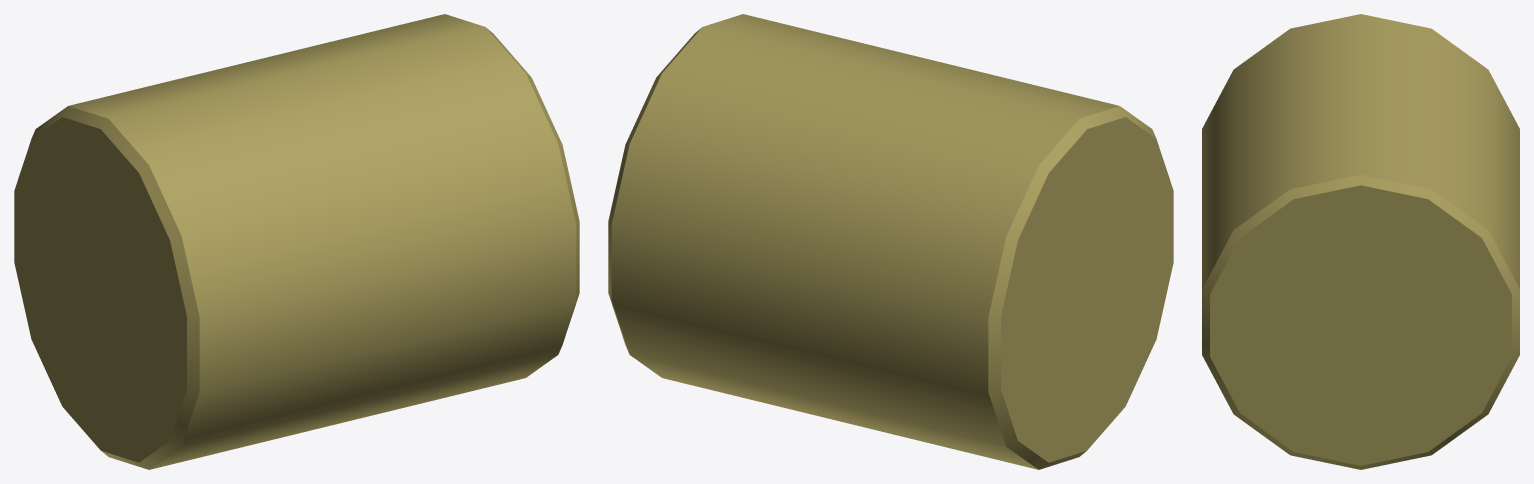
Rendered from Haybale_01.fbx.
The picture shows the model from 3 angles, left to right: view 1: azimuth 30°, elevation 25°; view 2: azimuth 150°, elevation 25°; view 3: azimuth 270°, elevation 25°; orthographic projection. The views are drawn at different scales.
Visible parts, largest first — view 1: pCylinder1; view 2: pCylinder1; view 3: pCylinder1.
Part boxes in pixels (x1=…): pCylinder1: x1=14, y1=14, x2=579, y2=469; pCylinder1: x1=608, y1=14, x2=1173, y2=469; pCylinder1: x1=1202, y1=14, x2=1519, y2=469.
Bounding box in the file's own units: 340 × 280 × 273.
